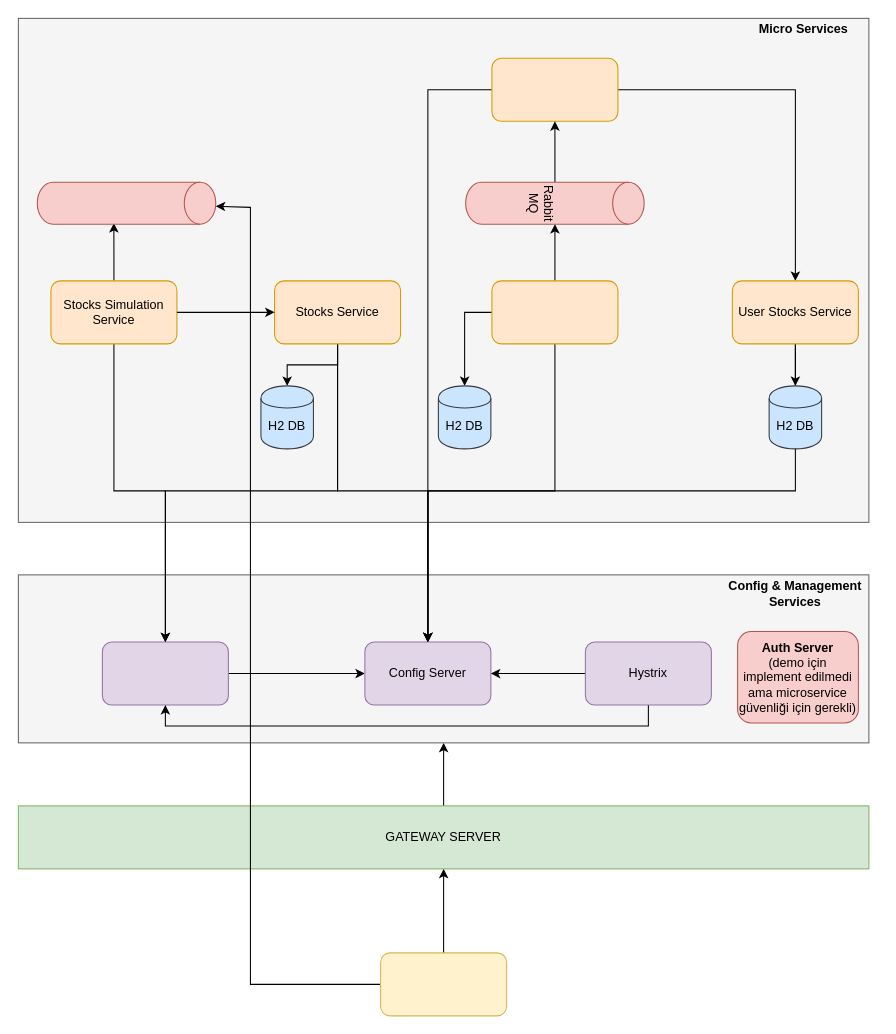
Image size: 896x1034. Some labels were removed from this diagram. The shapes that lost their labels are listed below. From the top down, each one's centre as x and y in pixels, then its label:
At point (554, 89): "Transaction Queue Service".
At point (126, 202): "Kafka".
At point (554, 312): "Transaction Service".
At point (164, 673): "Eureka Server".
At point (443, 984): "Stocks Client".
